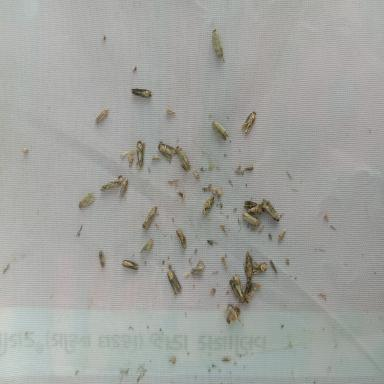pbw: (236, 110, 256, 134), (228, 274, 244, 302), (242, 281, 262, 303), (166, 268, 181, 294), (175, 146, 190, 172), (211, 28, 224, 58), (211, 120, 229, 141), (142, 205, 157, 230), (263, 199, 280, 221), (243, 200, 265, 216), (157, 143, 175, 162), (136, 140, 146, 168), (78, 192, 95, 208), (130, 87, 152, 99), (245, 249, 253, 281), (203, 193, 214, 216), (242, 212, 260, 226), (252, 260, 268, 275), (100, 179, 120, 190), (95, 108, 108, 124), (176, 229, 186, 249), (122, 259, 140, 270), (140, 239, 153, 253), (119, 177, 128, 197), (189, 265, 204, 276), (245, 164, 254, 170)
